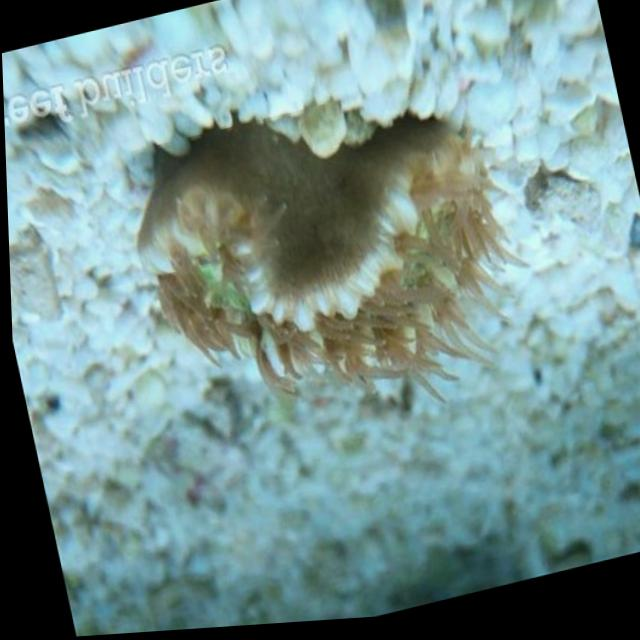Healthy Coral: (110, 94, 548, 463)
